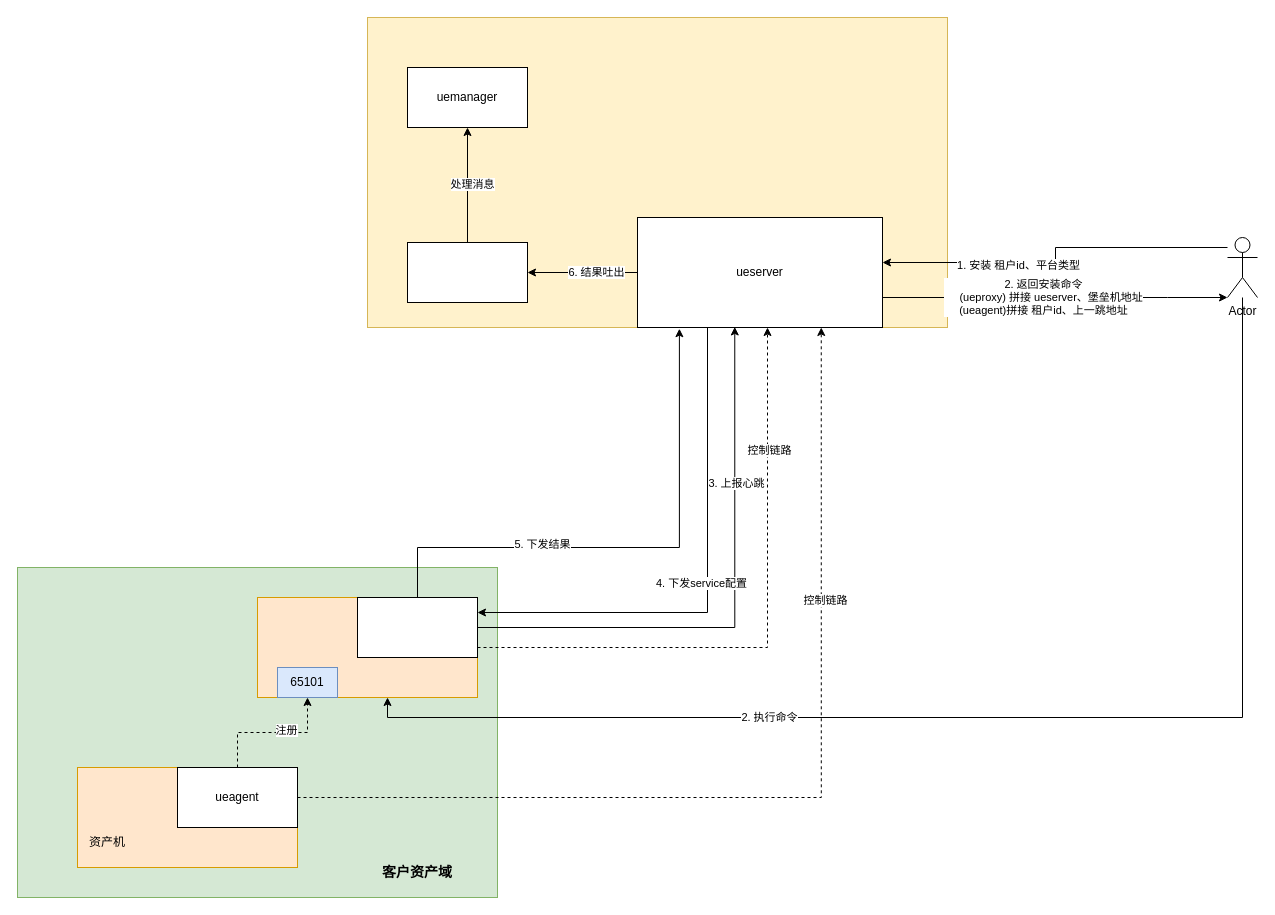
Some shapes in this 1275 by 915 pixel diagram are drawn without their labels. Here are the shapes that lost their labels. From the top down, the centre of each, then its label:
At (467,272): "kafka".
At (417,627): "ueproxy".
